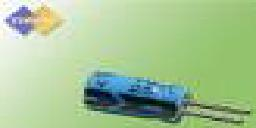Electrolytic-capacitor: (80, 70, 250, 127)
